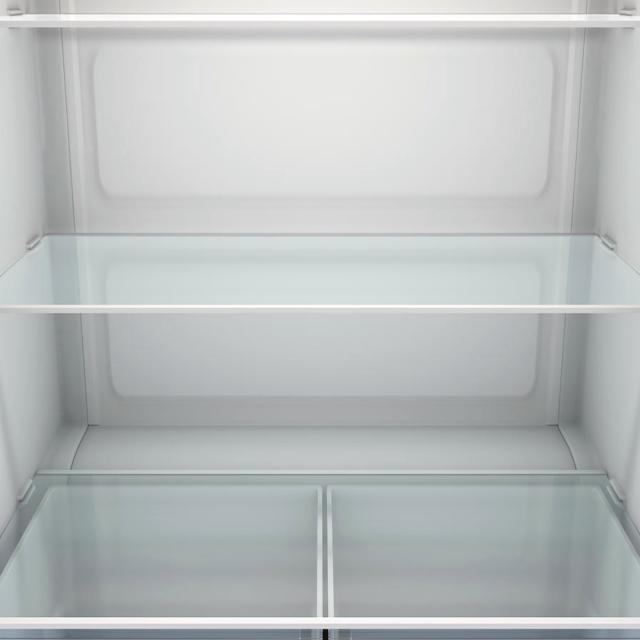fridge-space: (0, 371, 639, 619), (1, 118, 640, 305)
